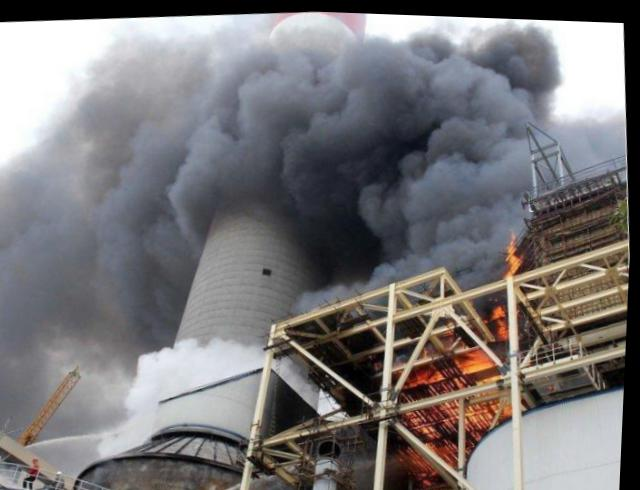fire: (466, 344, 498, 367), (421, 361, 448, 380), (497, 301, 513, 332), (508, 236, 523, 267)
